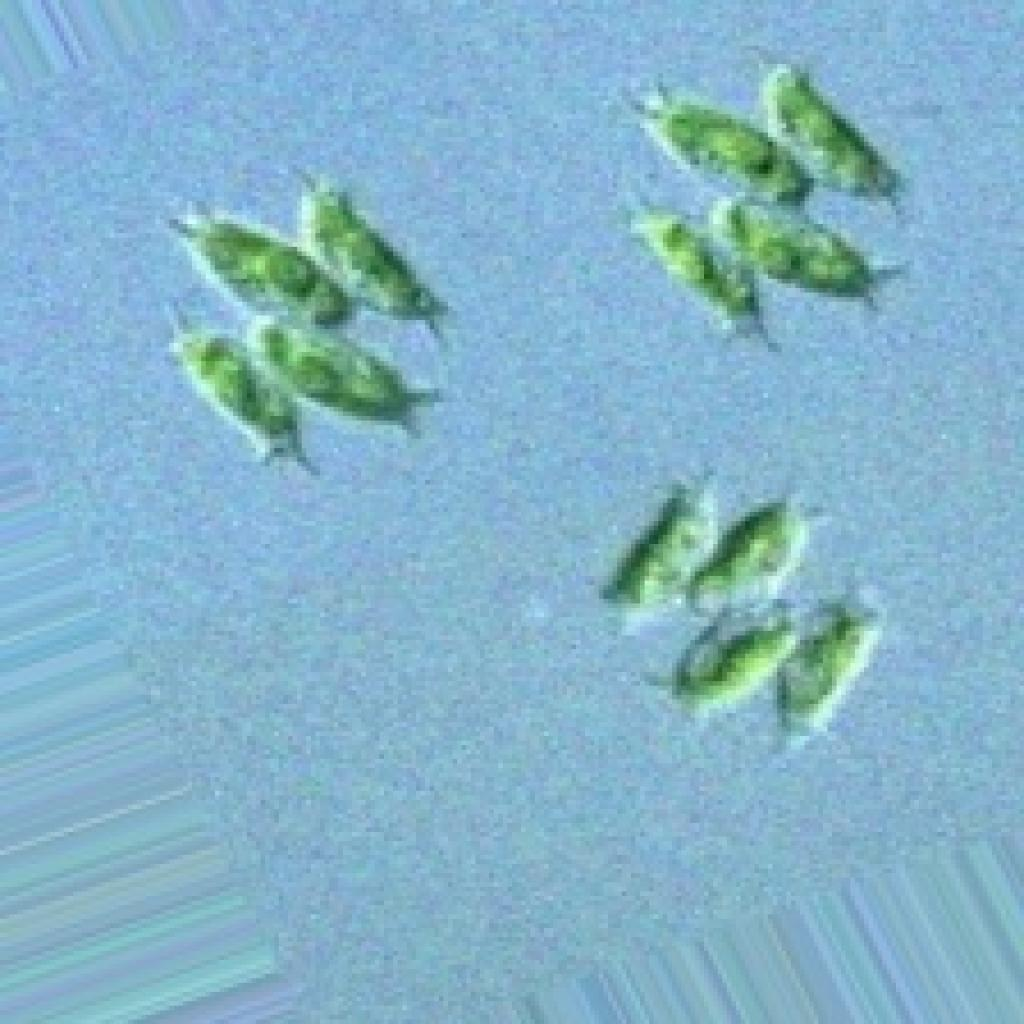Microalgae: (113, 77, 475, 491), (575, 56, 959, 397), (582, 448, 904, 764)
